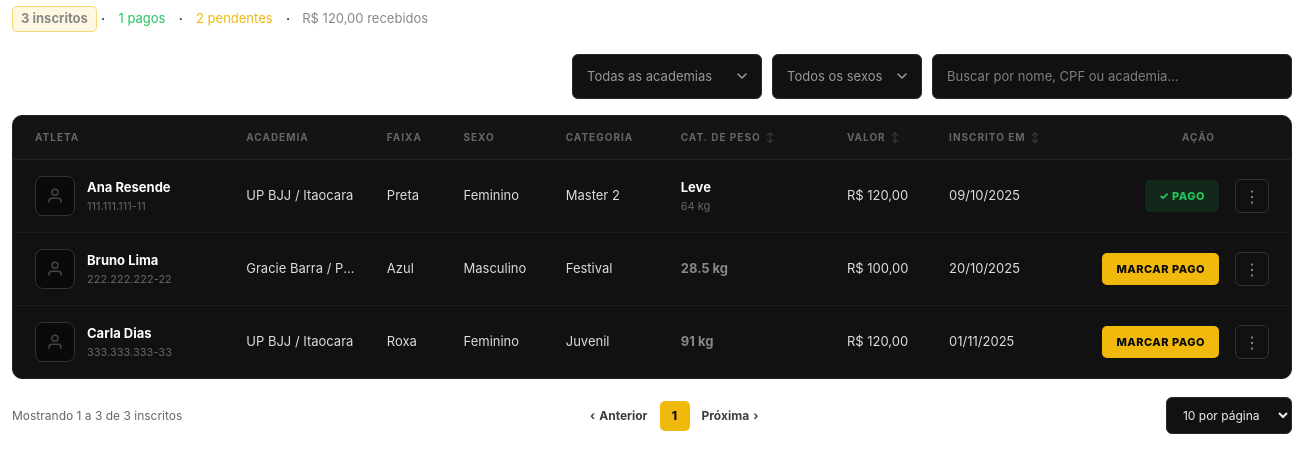
Test: Inscrições — filtros › filtra por academia
Expected: the text "Ana Resende" is shown, [87,178,171,198]
Select "Gracie Barra / Pádua" in the dropdown named "Filtrar por academia" at [667, 76], box [572,54,762,99]
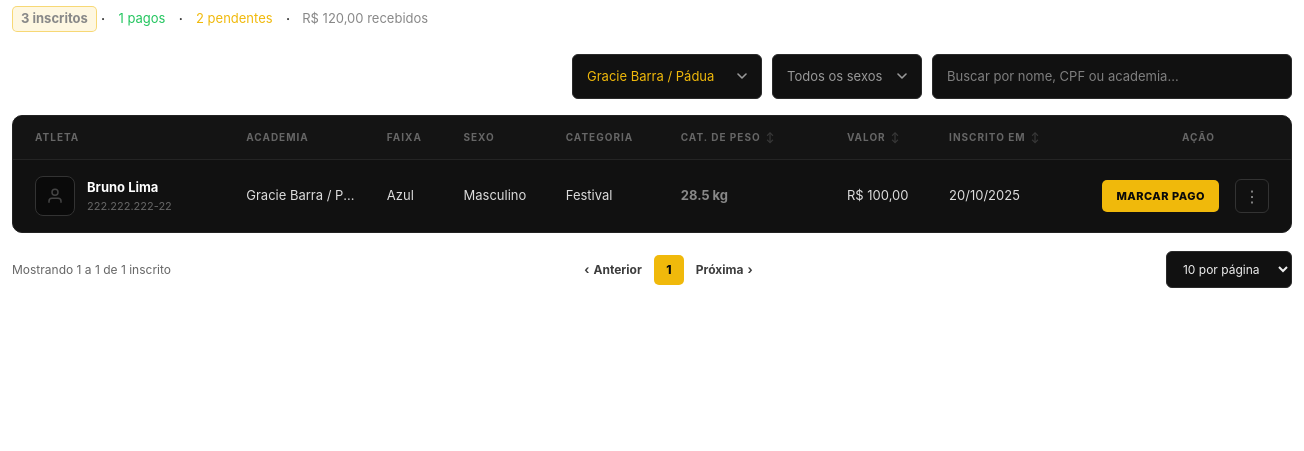
Expected: the text "Bruno Lima" is shown, [87,179,158,195]
Expected: the text "Ana Resende" is gone
